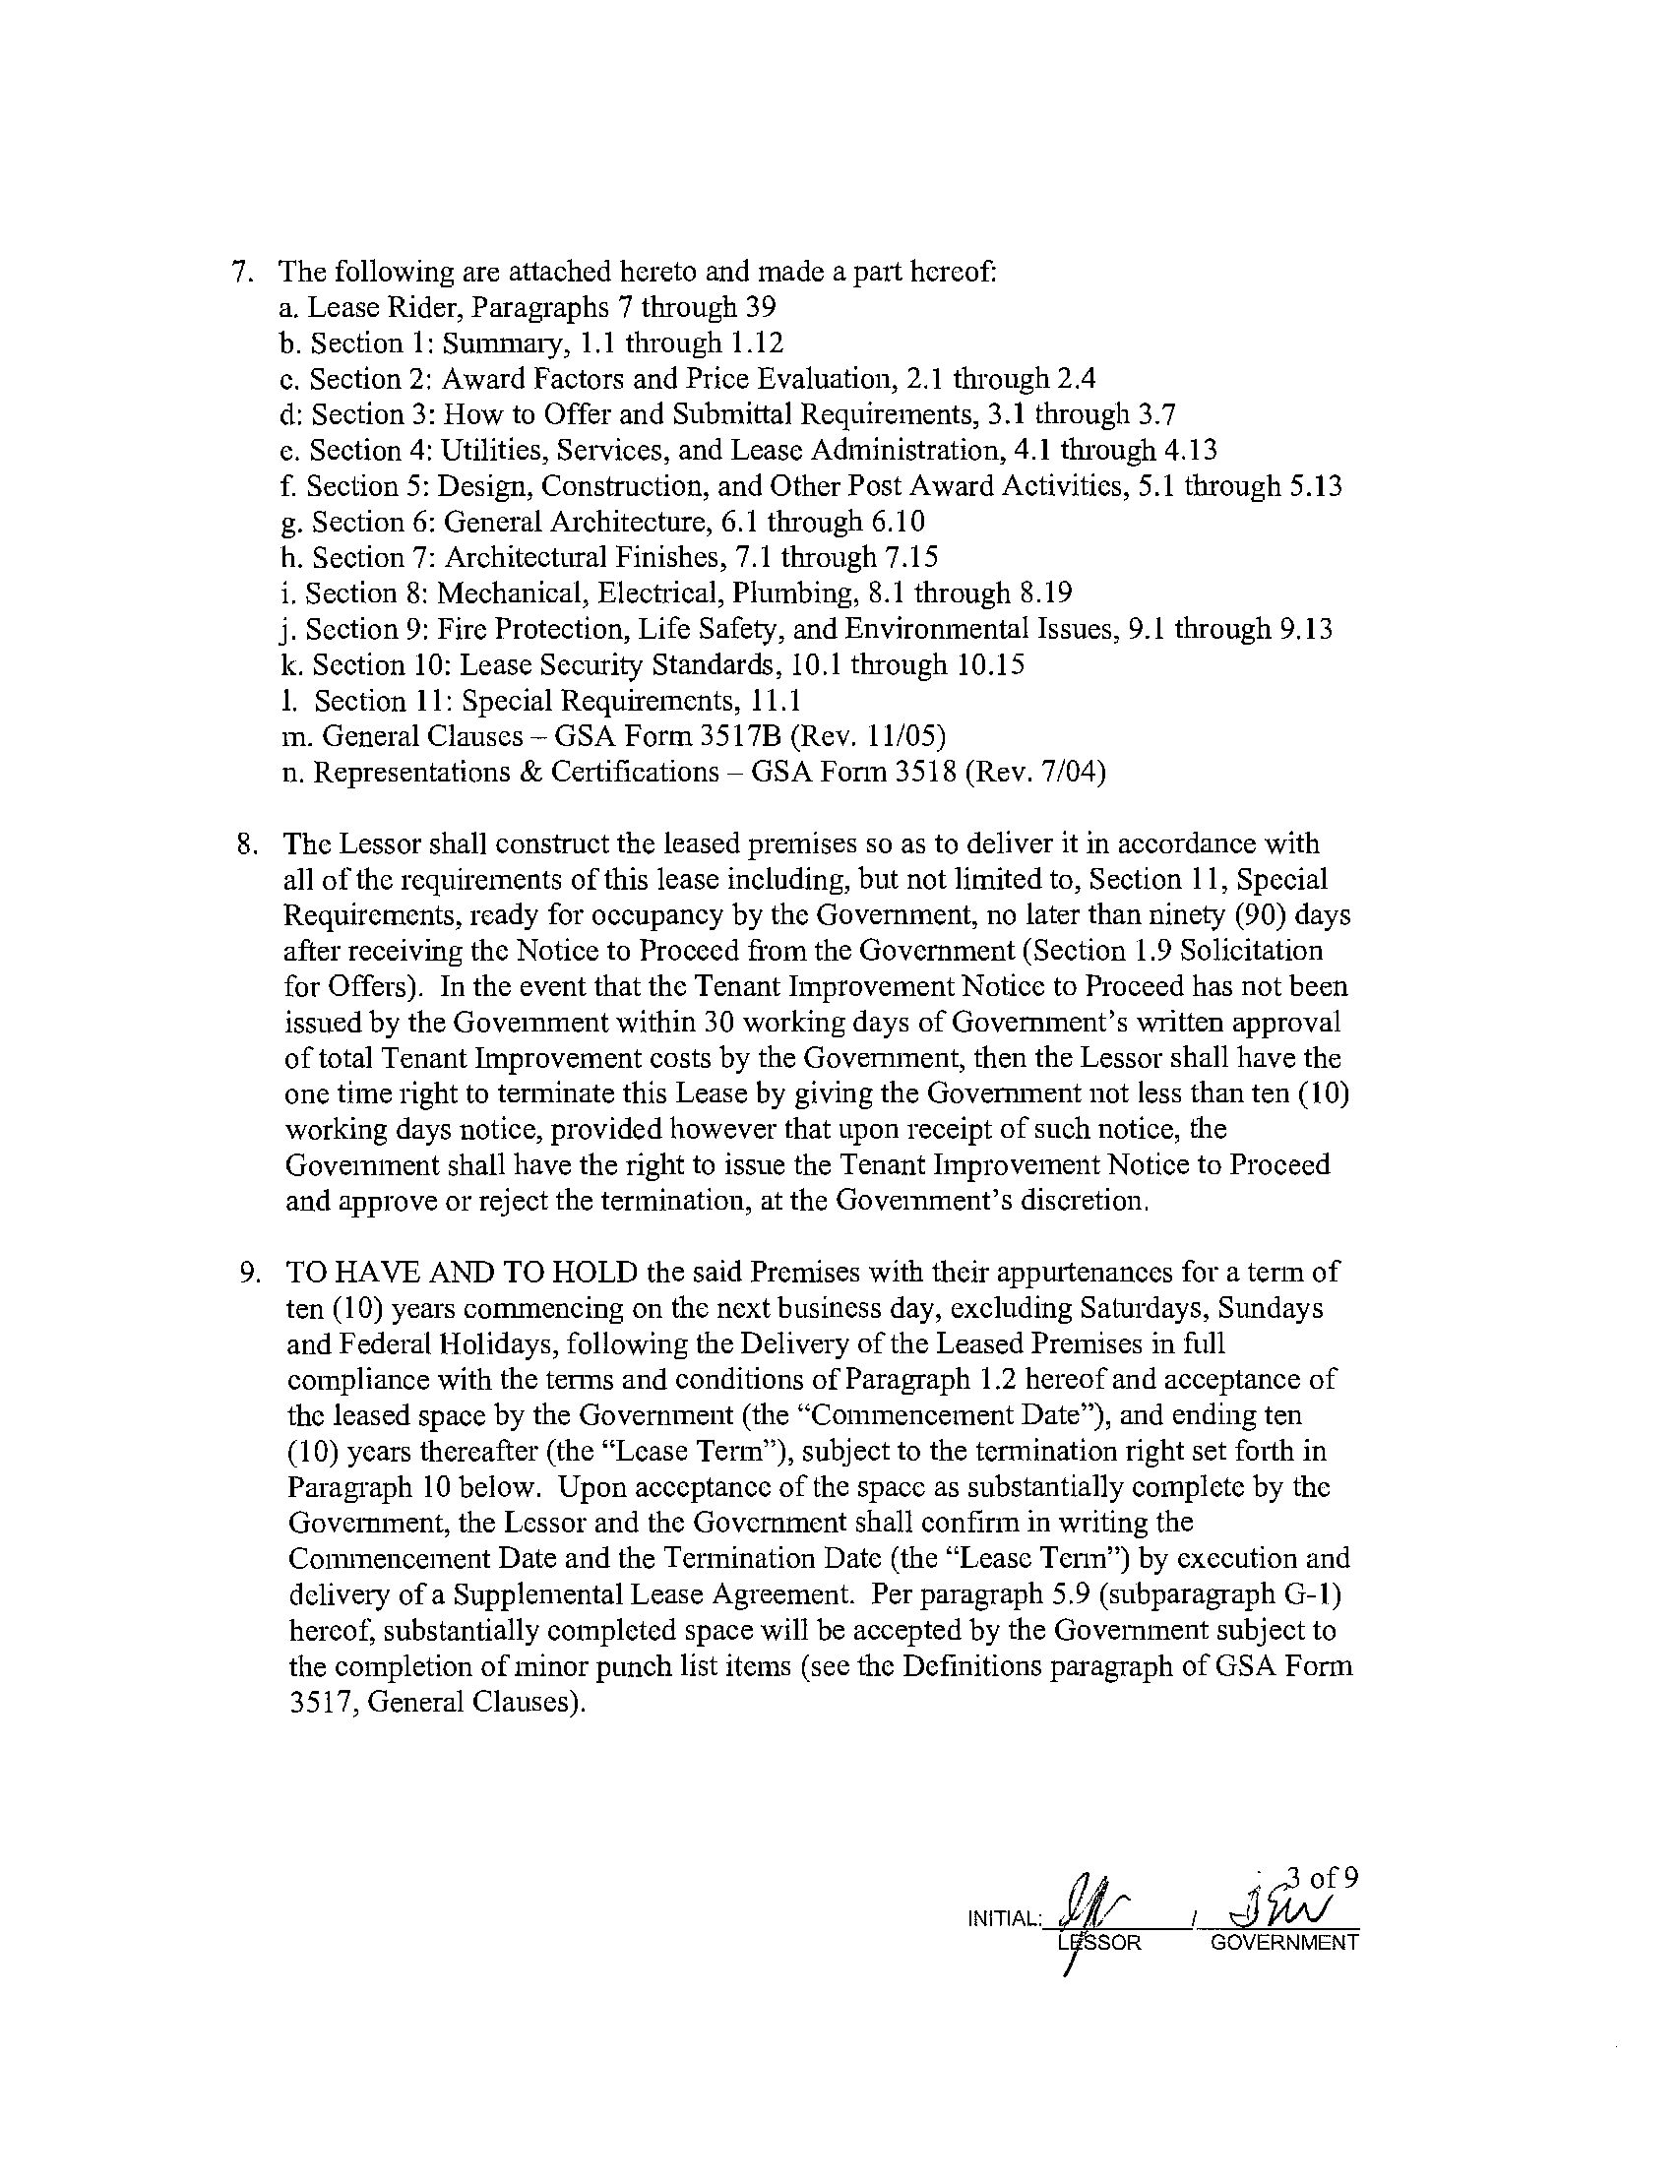handwritten: (1039, 1861, 1135, 1990), (1225, 1893, 1362, 1926)
